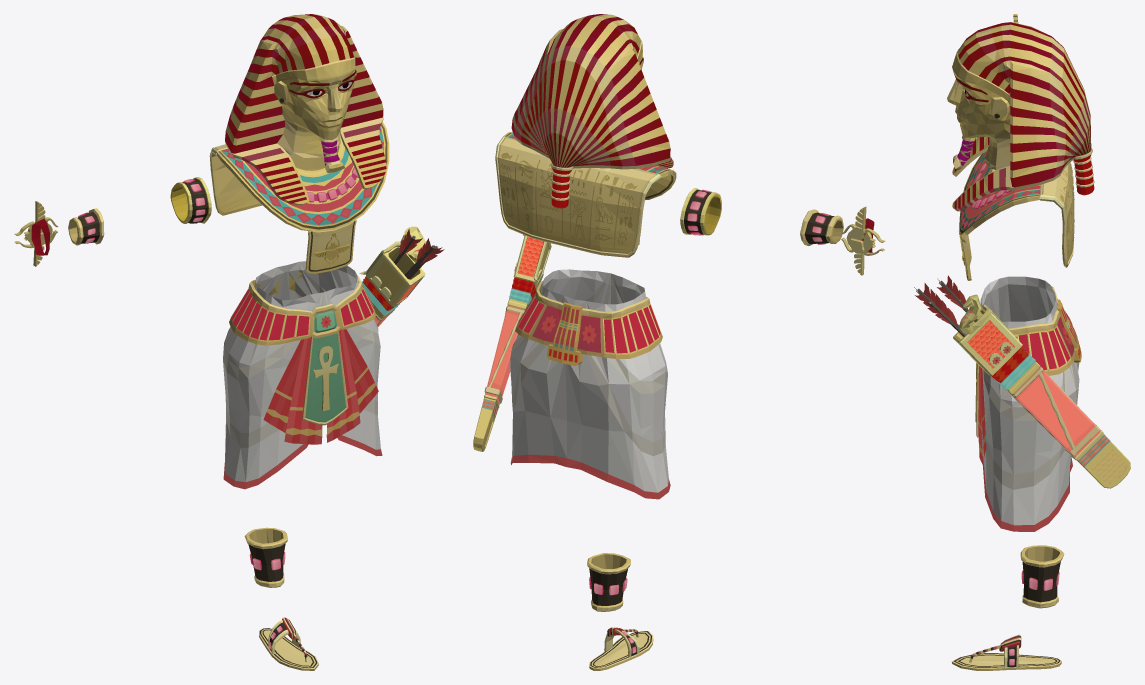
Rendered from pharaohArmorFemale.glb.
3 views of the same model, side by side, from view 1: azimuth 30°, elevation 25°; view 2: azimuth 150°, elevation 25°; view 3: azimuth 270°, elevation 25° (orthographic). The views are drawn at different scales.
Parts seen in each view (by area): view 1: pharaohArmor, pharaohMask, pharaohQuiver, pharaohBraceLowerLeg, pharaohSandles, pharaohBraceUpperArm, pharaohArmorGlove, pharaohBraceLowerArm; view 2: pharaohArmor, pharaohMask, pharaohQuiver, pharaohBraceLowerLeg, pharaohSandles, pharaohBraceUpperArm, pharaohArmorGlove, pharaohBraceLowerArm; view 3: pharaohArmor, pharaohMask, pharaohQuiver, pharaohBraceLowerLeg, pharaohSandles.
Boxes of the visible parts, <box> form: pharaohArmor: <box>209,122,389,489</box>; pharaohMask: <box>225,14,386,205</box>; pharaohQuiver: <box>359,226,444,326</box>; pharaohBraceLowerLeg: <box>244,527,287,587</box>; pharaohSandles: <box>259,617,318,670</box>; pharaohBraceUpperArm: <box>170,177,211,223</box>; pharaohArmorGlove: <box>14,201,58,266</box>; pharaohBraceLowerArm: <box>68,208,104,245</box>; pharaohArmor: <box>495,132,676,499</box>; pharaohMask: <box>511,14,673,208</box>; pharaohQuiver: <box>473,234,551,451</box>; pharaohBraceLowerLeg: <box>587,553,630,611</box>; pharaohSandles: <box>589,627,653,670</box>; pharaohBraceUpperArm: <box>680,188,721,235</box>; pharaohArmorGlove: <box>841,206,885,275</box>; pharaohBraceLowerArm: <box>800,209,843,245</box>; pharaohArmor: <box>958,151,1081,531</box>; pharaohMask: <box>947,22,1094,211</box>; pharaohQuiver: <box>914,275,1130,488</box>; pharaohBraceLowerLeg: <box>1020,545,1064,608</box>; pharaohSandles: <box>952,634,1061,670</box>.
Bounding box in the file's own units: 1.26 × 1.94 × 0.5868.
